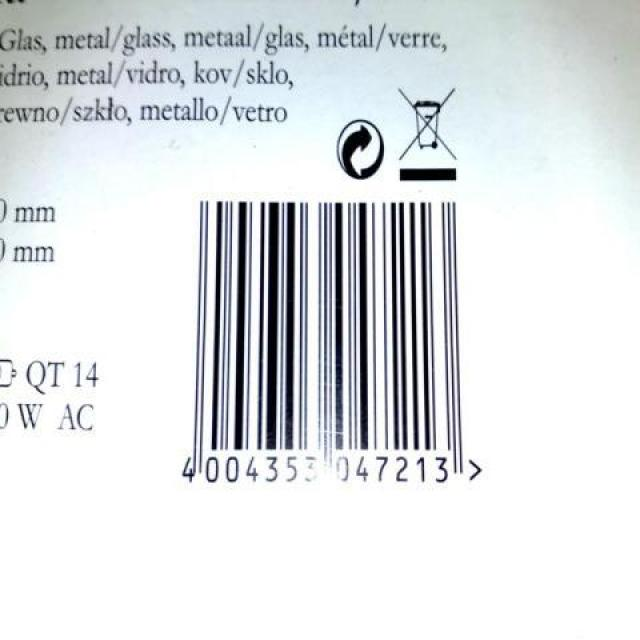Barcode: (162, 185, 505, 506)
